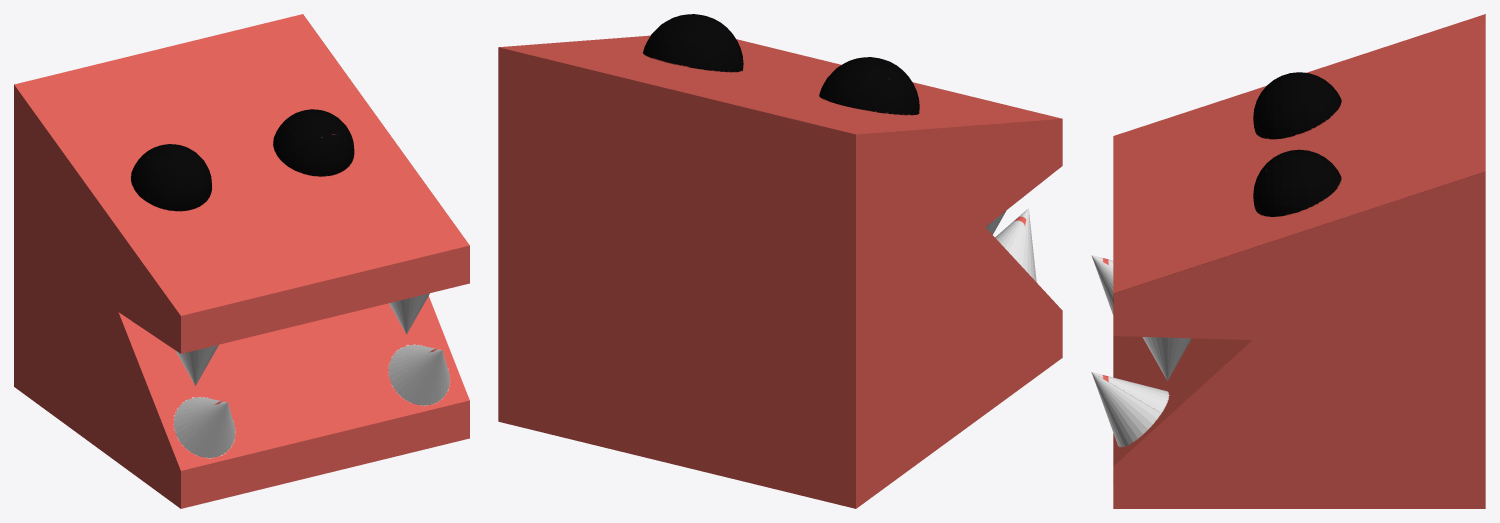
Rendered from enemy.obj.
The picture shows the model from 3 angles, left to right: view 1: azimuth 30°, elevation 25°; view 2: azimuth 150°, elevation 25°; view 3: azimuth 270°, elevation 25°; orthographic projection. The views are drawn at different scales.
Parts seen in each view (by area): view 1: 立方体; view 2: 立方体; view 3: 立方体.
Part boxes in pixels (<box>): 立方体: <box>14,14,469,508</box>; 立方体: <box>498,14,1062,508</box>; 立方体: <box>1091,14,1485,508</box>.
Size of the model in its own units: 2 by 2 by 2.12.
Materials: 1 (1 with a texture image).
